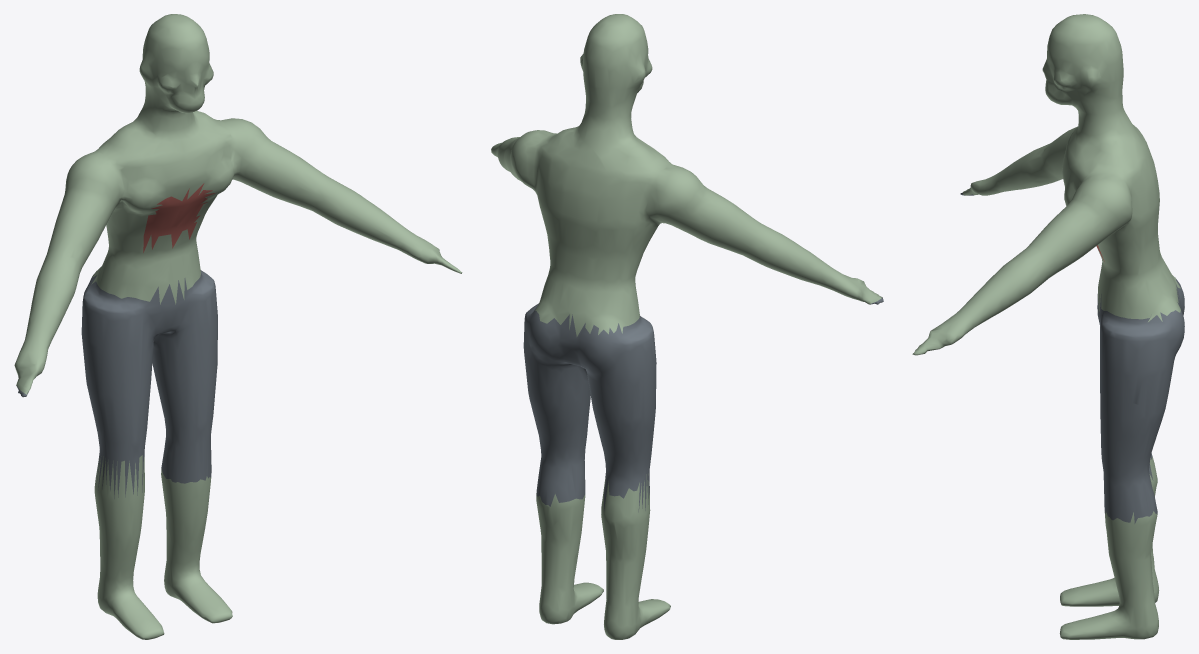
Rendered from Char_Zombie_Base.fbx.
3 views of the same model, side by side, from view 1: azimuth 30°, elevation 25°; view 2: azimuth 150°, elevation 25°; view 3: azimuth 270°, elevation 25° (orthographic). The views are drawn at different scales.
Visible parts, largest first — view 1: Char_Zombie_Base; view 2: Char_Zombie_Base; view 3: Char_Zombie_Base.
Boxes of the visible parts, x1,y1,x2,y2 form: Char_Zombie_Base: (14,14,462,639); Char_Zombie_Base: (491,14,883,639); Char_Zombie_Base: (912,14,1184,639).
Size of the model in its own units: 1.27 by 0.7282 by 1.78.
